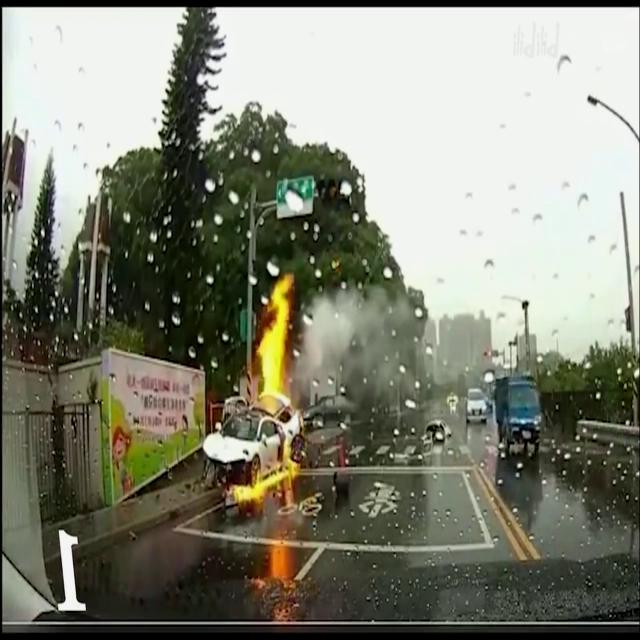accident: (199, 368, 311, 508)
non-accident: (464, 374, 542, 454)
